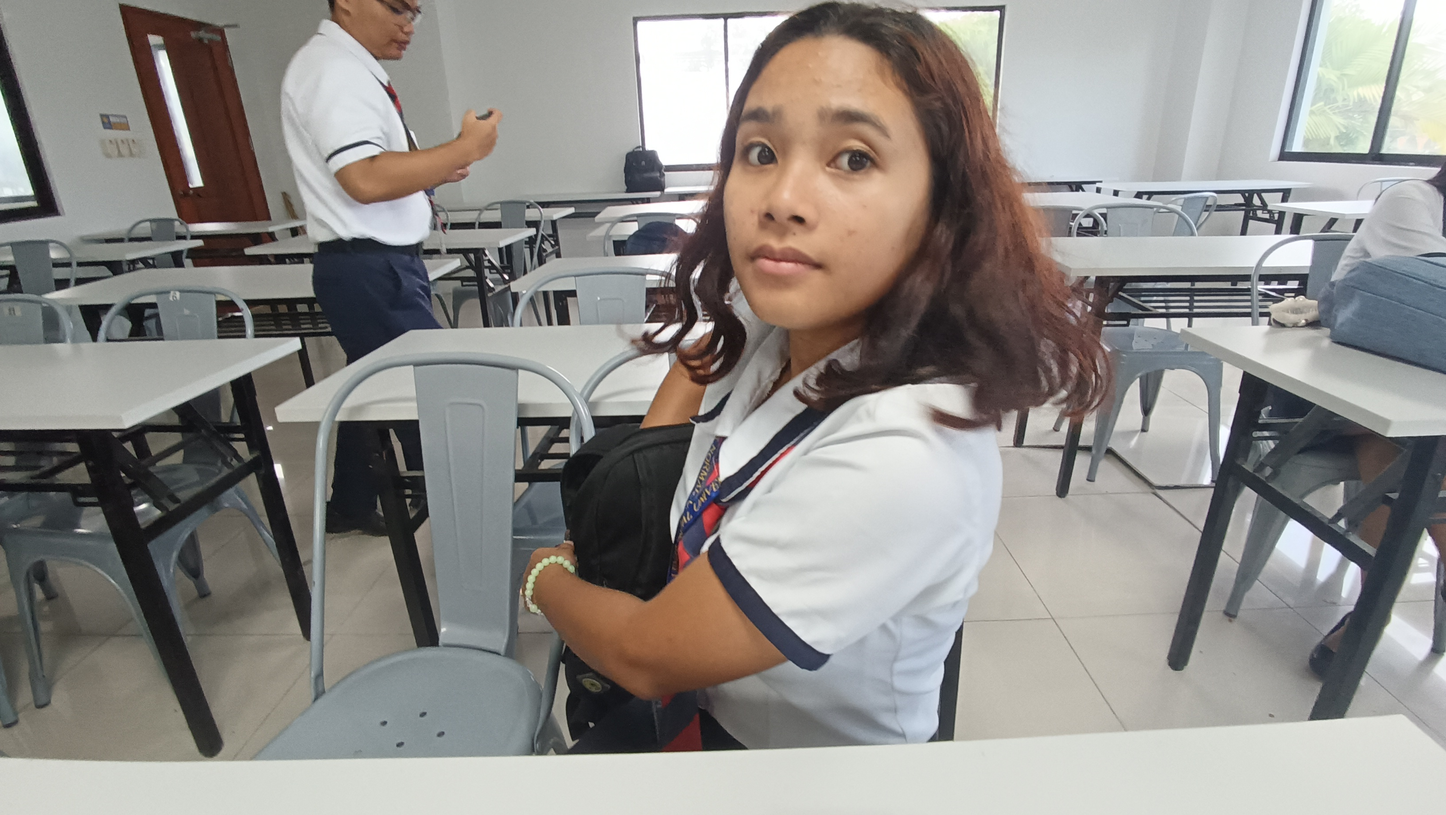with-student: (7, 0, 1446, 815)
